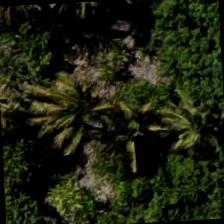Kelapa_Sawit: (78, 74, 173, 169), (18, 64, 113, 159)
